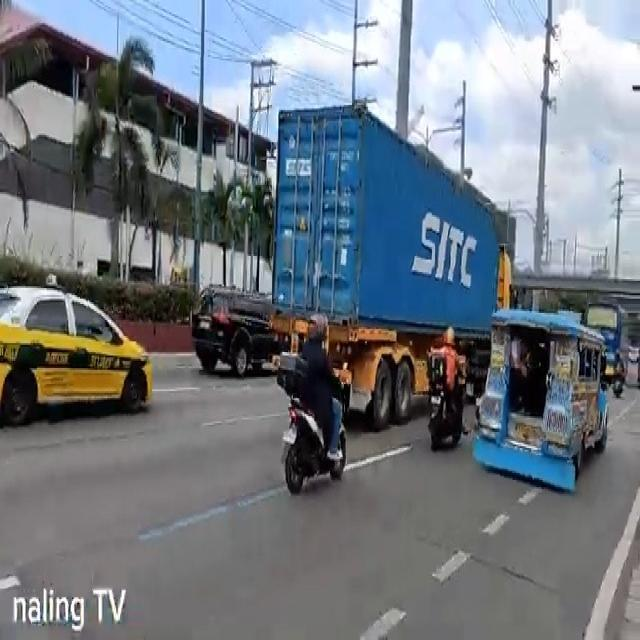car: (0, 273, 151, 425), (194, 286, 272, 380)
jeepney: (472, 304, 609, 492)
motorcycle: (274, 313, 348, 496), (426, 324, 469, 451)
truck: (272, 99, 514, 418)
